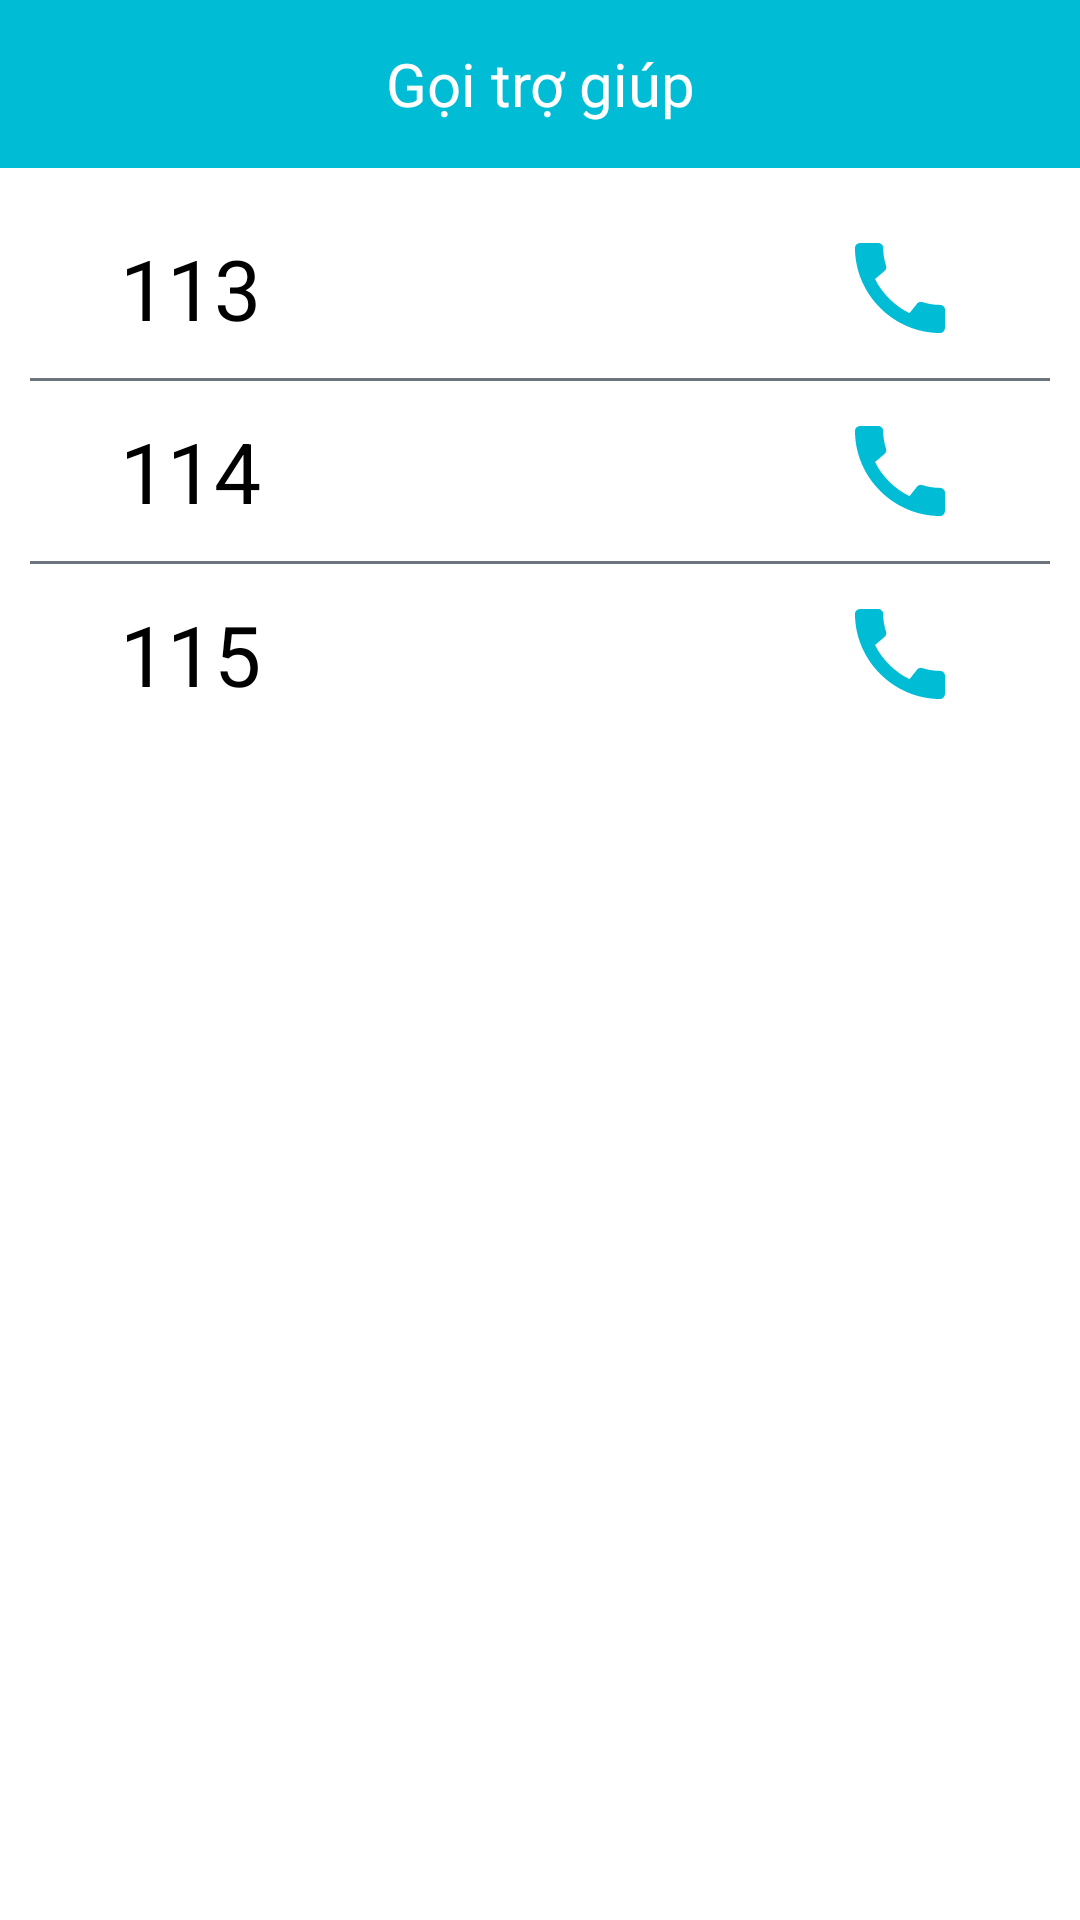

Locate icon controls on the screen. Image size 1080w x 1920h, boxes as {"left": x1, "top": y1, "right": x2, "bottom": y2}.
call: {"left": 855, "top": 243, "right": 945, "bottom": 333}, {"left": 855, "top": 426, "right": 945, "bottom": 516}, {"left": 855, "top": 609, "right": 945, "bottom": 699}
